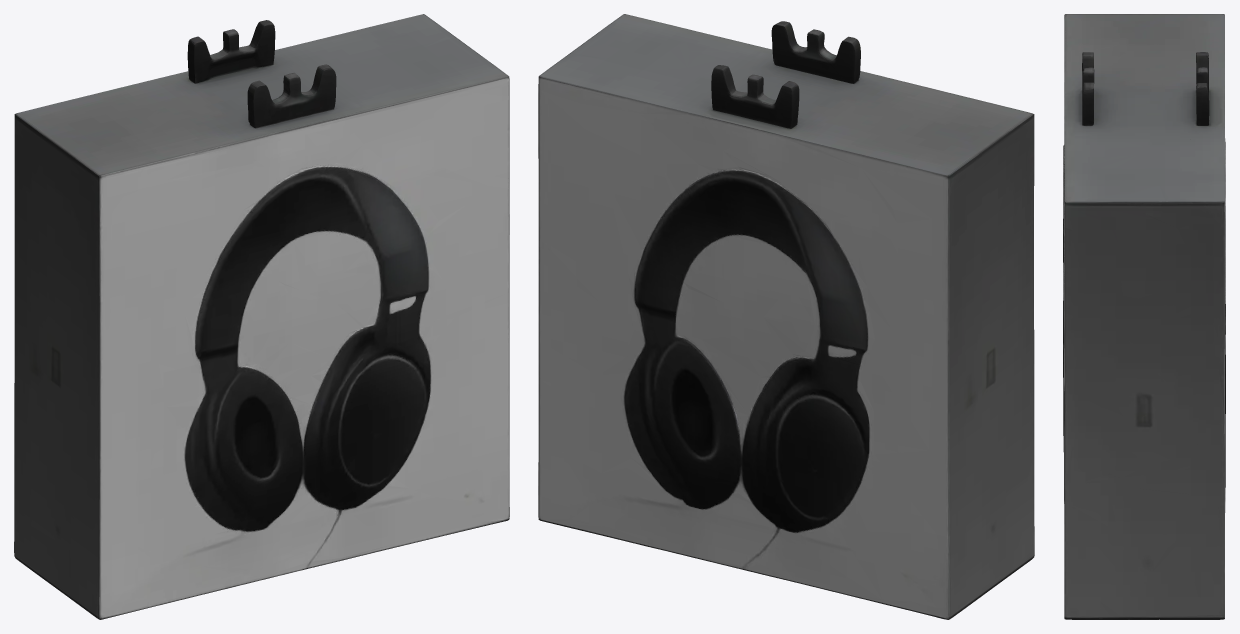
3 views of the same model, side by side, from view 1: azimuth 30°, elevation 25°; view 2: azimuth 150°, elevation 25°; view 3: azimuth 270°, elevation 25° (orthographic). The views are drawn at different scales.
Visible parts, largest first — view 1: geometry_0; view 2: geometry_0; view 3: geometry_0.
Part boxes in pixels (x1,y1,x2,y2): geometry_0: (14,14,509,619); geometry_0: (538,14,1034,619); geometry_0: (1063,14,1225,619).
Size of the model in its own units: 0.8843 by 0.9999 by 0.3227.
Materials: 1 (1 with a texture image).
